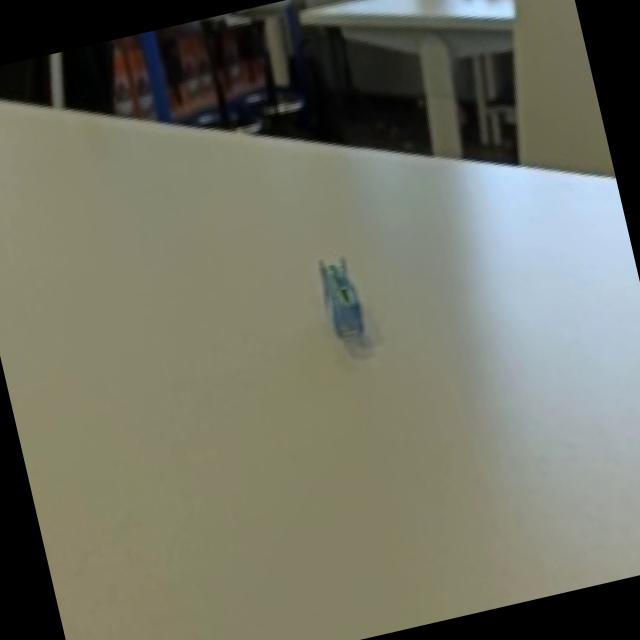3_NanoBug_Celeste: (276, 219, 402, 387)
